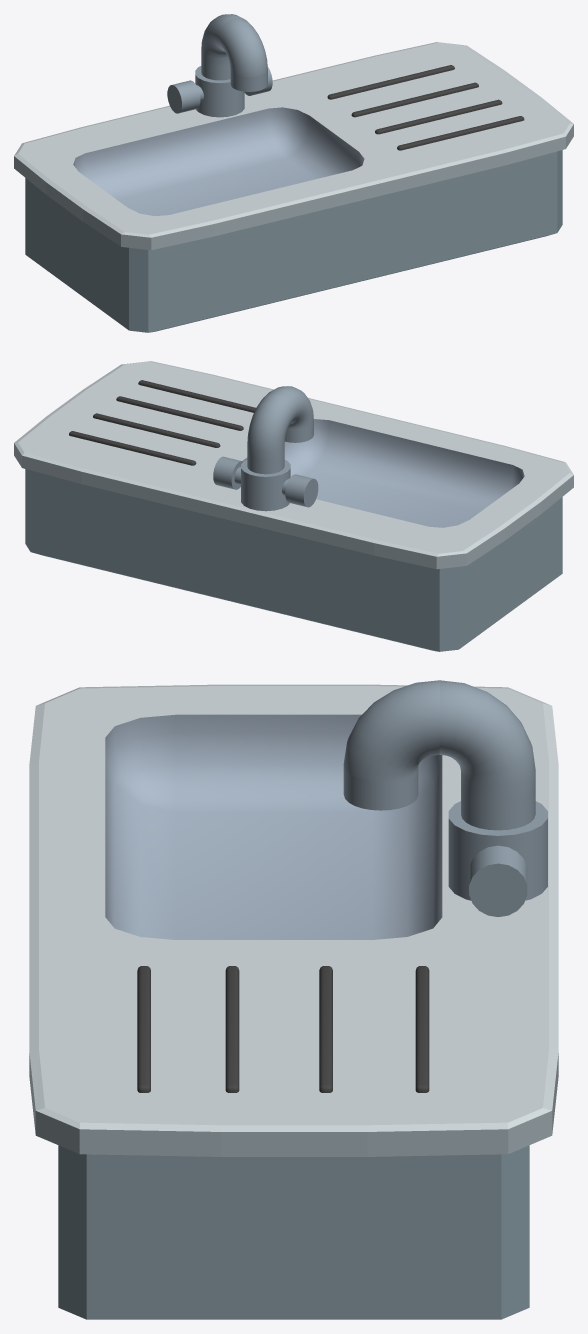
The model's file is Sink_0603.fbx.
The picture shows the model from 3 angles, top to bottom: view 1: azimuth 30°, elevation 25°; view 2: azimuth 150°, elevation 25°; view 3: azimuth 270°, elevation 25°; orthographic projection. The views are drawn at different scales.
Parts seen in each view (by area): view 1: Sink_0, Loft001, Cylinder001, Cylinder004, ChamferBox003, ChamferBox002, ChamferBox004, ChamferBox001; view 2: Sink_0, Loft001, Cylinder001, Cylinder004, ChamferBox001, ChamferBox002, ChamferBox003, ChamferBox004, Cylinder005; view 3: Sink_0, Loft001, Cylinder001, Cylinder005, ChamferBox001, ChamferBox003, ChamferBox002, ChamferBox004.
Boxes of the visible parts, bbox=[...] form: Sink_0: bbox=[14, 42, 573, 332]; Loft001: bbox=[201, 14, 267, 91]; Cylinder001: bbox=[195, 66, 244, 117]; Cylinder004: bbox=[167, 80, 200, 113]; ChamferBox003: bbox=[375, 99, 502, 134]; ChamferBox002: bbox=[351, 82, 478, 117]; ChamferBox004: bbox=[397, 116, 524, 150]; ChamferBox001: bbox=[327, 65, 454, 99]; Sink_0: bbox=[14, 361, 573, 651]; Loft001: bbox=[247, 386, 313, 474]; Cylinder001: bbox=[241, 460, 290, 511]; Cylinder004: bbox=[285, 474, 318, 507]; ChamferBox001: bbox=[69, 431, 196, 465]; ChamferBox002: bbox=[93, 413, 220, 447]; ChamferBox003: bbox=[116, 396, 243, 430]; ChamferBox004: bbox=[138, 380, 255, 412]; Cylinder005: bbox=[213, 456, 242, 489]; Sink_0: bbox=[29, 684, 558, 1319]; Loft001: bbox=[343, 680, 535, 830]; Cylinder001: bbox=[448, 801, 547, 900]; Cylinder005: bbox=[469, 845, 527, 917]; ChamferBox001: bbox=[415, 966, 429, 1092]; ChamferBox003: bbox=[225, 966, 239, 1092]; ChamferBox002: bbox=[319, 966, 332, 1092]; ChamferBox004: bbox=[137, 966, 150, 1092].
Bounding box in the file's own units: 84.56 × 35.98 × 42.28.
Materials: 4 (1 with a texture image).
